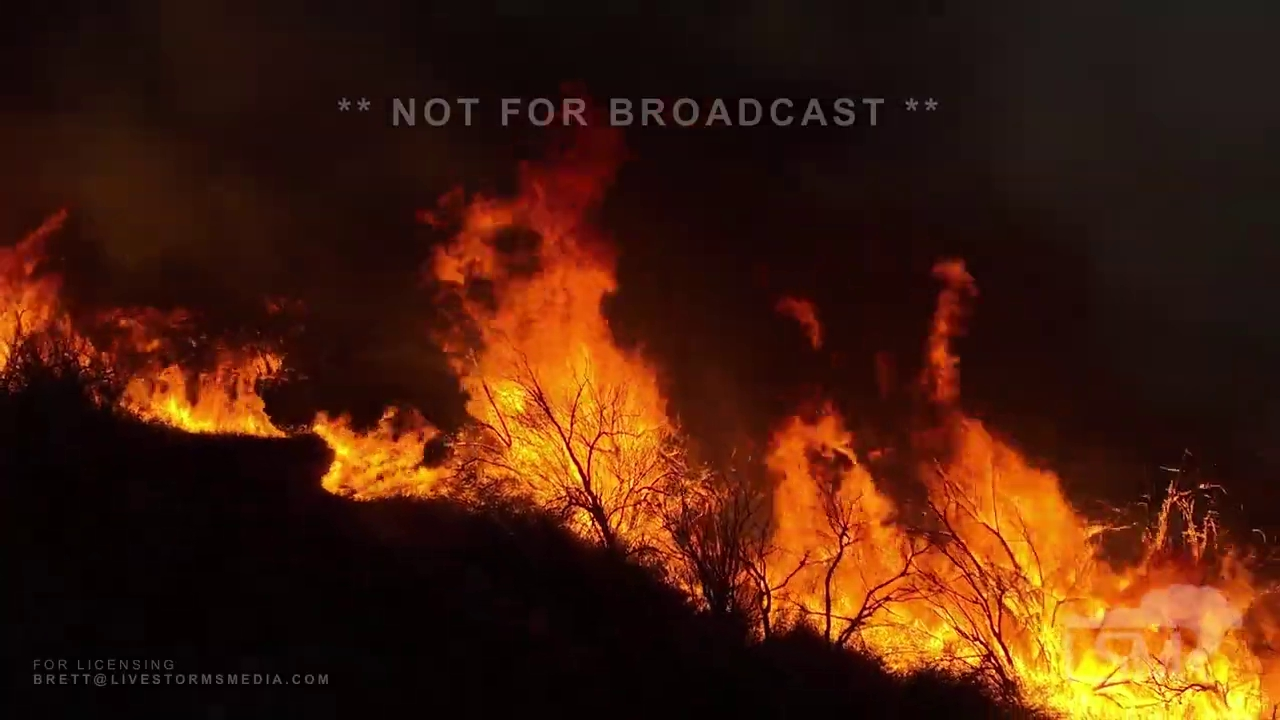forest_fire: (300, 128, 1279, 718), (0, 212, 297, 436), (776, 298, 821, 348)
